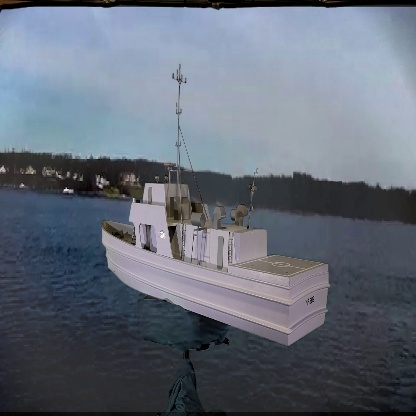YP689: (100, 61, 329, 348)
